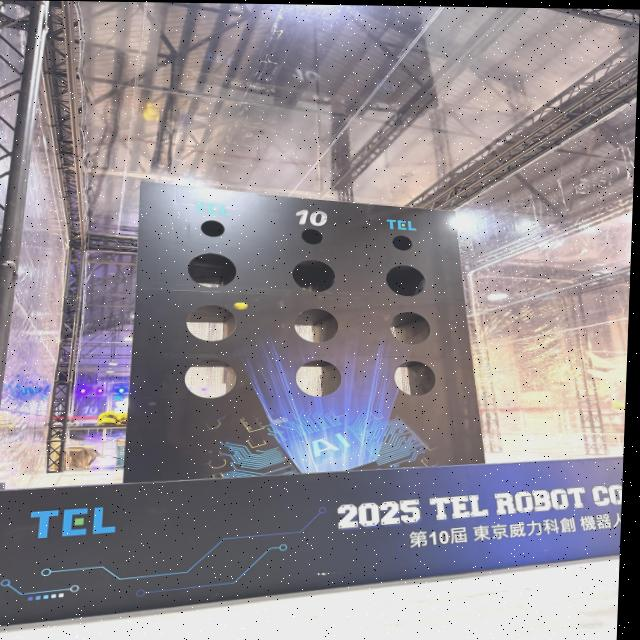hole: (184, 359, 237, 399), (186, 305, 238, 342), (187, 253, 237, 288), (295, 360, 342, 397), (293, 308, 340, 343), (292, 259, 337, 292), (394, 361, 436, 396), (389, 311, 431, 344), (386, 265, 426, 297), (200, 220, 225, 237), (300, 228, 324, 244), (392, 235, 413, 250)
